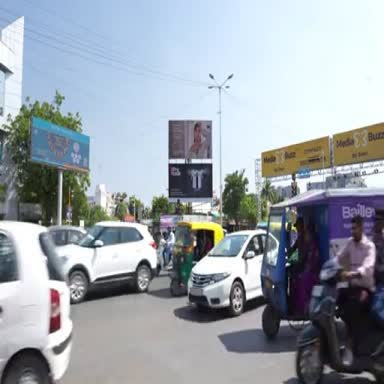Car: (0, 222, 72, 383), (57, 221, 158, 304), (188, 230, 266, 316), (48, 226, 86, 246)
